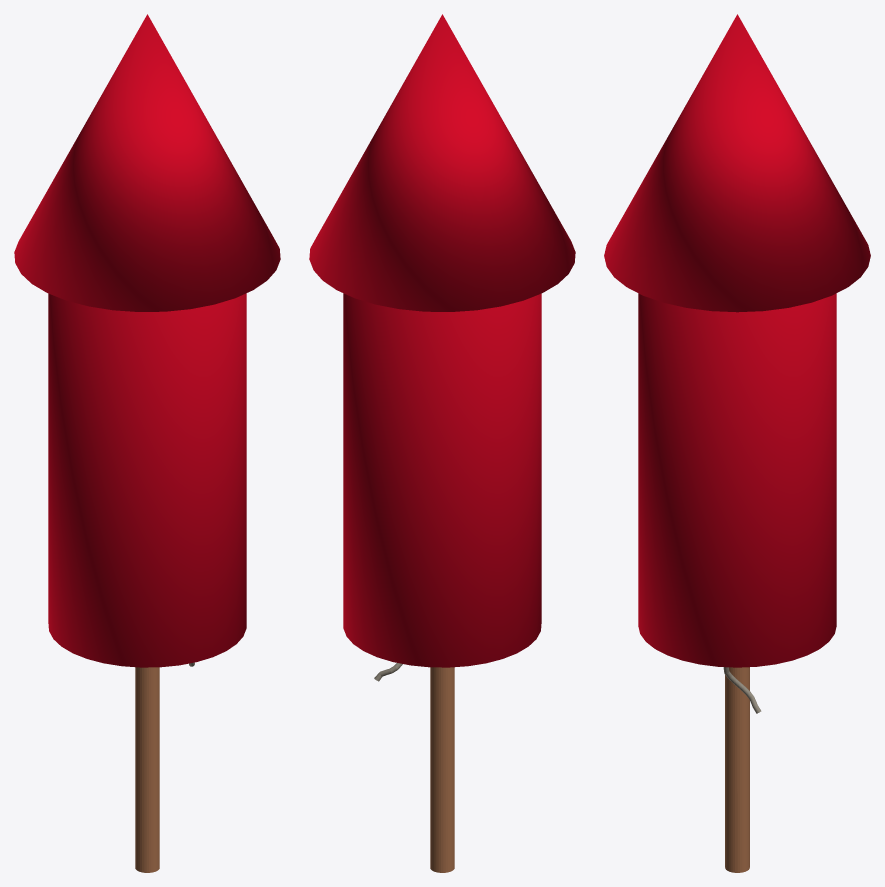
Rendered from firework.fbx.
The picture shows the model from 3 angles, left to right: view 1: azimuth 30°, elevation 25°; view 2: azimuth 150°, elevation 25°; view 3: azimuth 270°, elevation 25°; orthographic projection.
Visible parts, largest first — view 1: body, top, base; view 2: body, top, base; view 3: body, top, base.
Boxes of the visible parts, box(x1,y1,x2,y2) form: body: box(48, 293, 246, 667); top: box(14, 14, 280, 311); base: box(135, 667, 159, 872); body: box(343, 293, 541, 667); top: box(309, 14, 575, 311); base: box(430, 667, 454, 872); body: box(638, 293, 836, 667); top: box(604, 14, 870, 312); base: box(725, 667, 749, 872).
Bounding box in the file's own units: 0.4306 × 1.52 × 0.4306.
